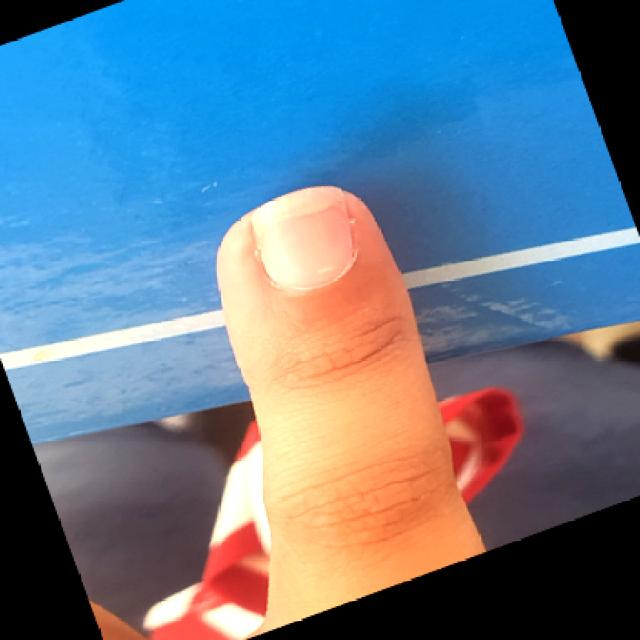Nail: (251, 188, 356, 291)
